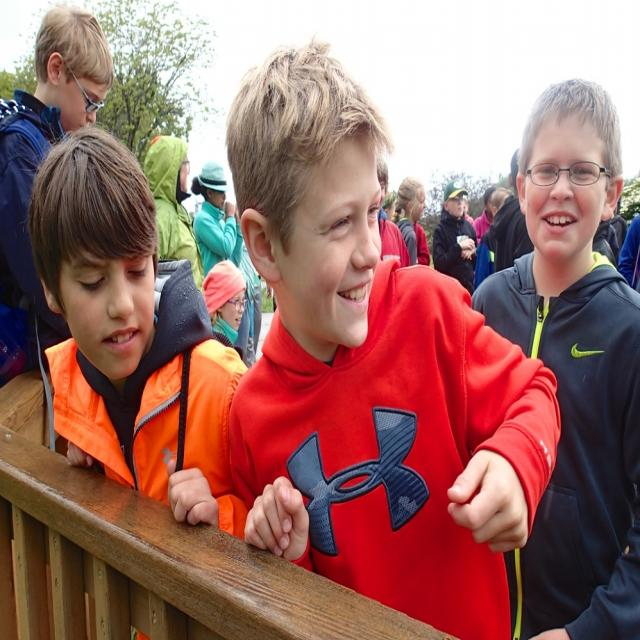Glasses: (62, 58, 106, 114), (521, 162, 612, 187), (224, 295, 248, 314)
